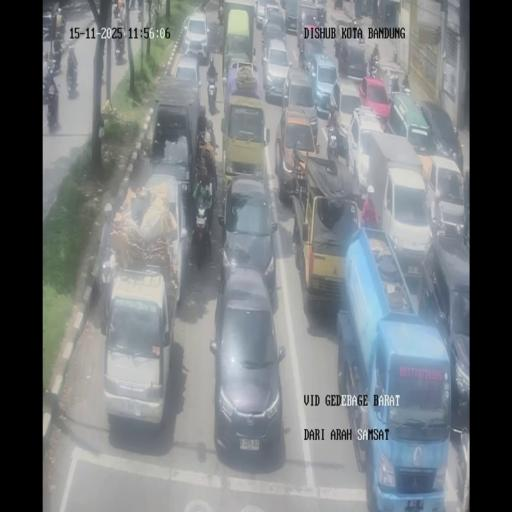car: (210, 268, 284, 464), (102, 267, 175, 431), (218, 174, 278, 296), (274, 106, 319, 202), (424, 154, 466, 236), (388, 92, 432, 152), (330, 78, 365, 151), (308, 54, 338, 118), (261, 41, 291, 102), (358, 76, 391, 122), (183, 12, 210, 63), (337, 38, 368, 81), (226, 58, 257, 96), (298, 22, 324, 67), (172, 55, 201, 88), (262, 1, 286, 36), (282, 0, 301, 33), (42, 8, 55, 40), (314, 0, 327, 26)
motorcycle: (190, 198, 212, 267), (46, 84, 59, 132), (326, 123, 340, 162), (206, 71, 218, 115), (205, 20, 220, 53), (66, 64, 79, 98), (114, 29, 126, 64), (54, 8, 66, 42), (334, 21, 344, 61), (205, 119, 217, 152), (42, 50, 54, 79), (52, 40, 62, 73), (388, 72, 400, 96), (367, 57, 379, 79), (196, 128, 206, 152), (400, 72, 410, 94), (119, 4, 126, 31), (100, 36, 107, 61), (217, 1, 224, 24), (357, 26, 365, 46), (153, 0, 162, 17), (145, 0, 152, 19), (137, 5, 143, 23), (352, 18, 358, 35), (113, 4, 119, 19), (199, 0, 206, 12), (129, 0, 136, 11)
truck: (338, 232, 450, 507), (290, 152, 363, 316), (356, 130, 428, 267), (146, 83, 204, 217), (220, 90, 268, 196)
